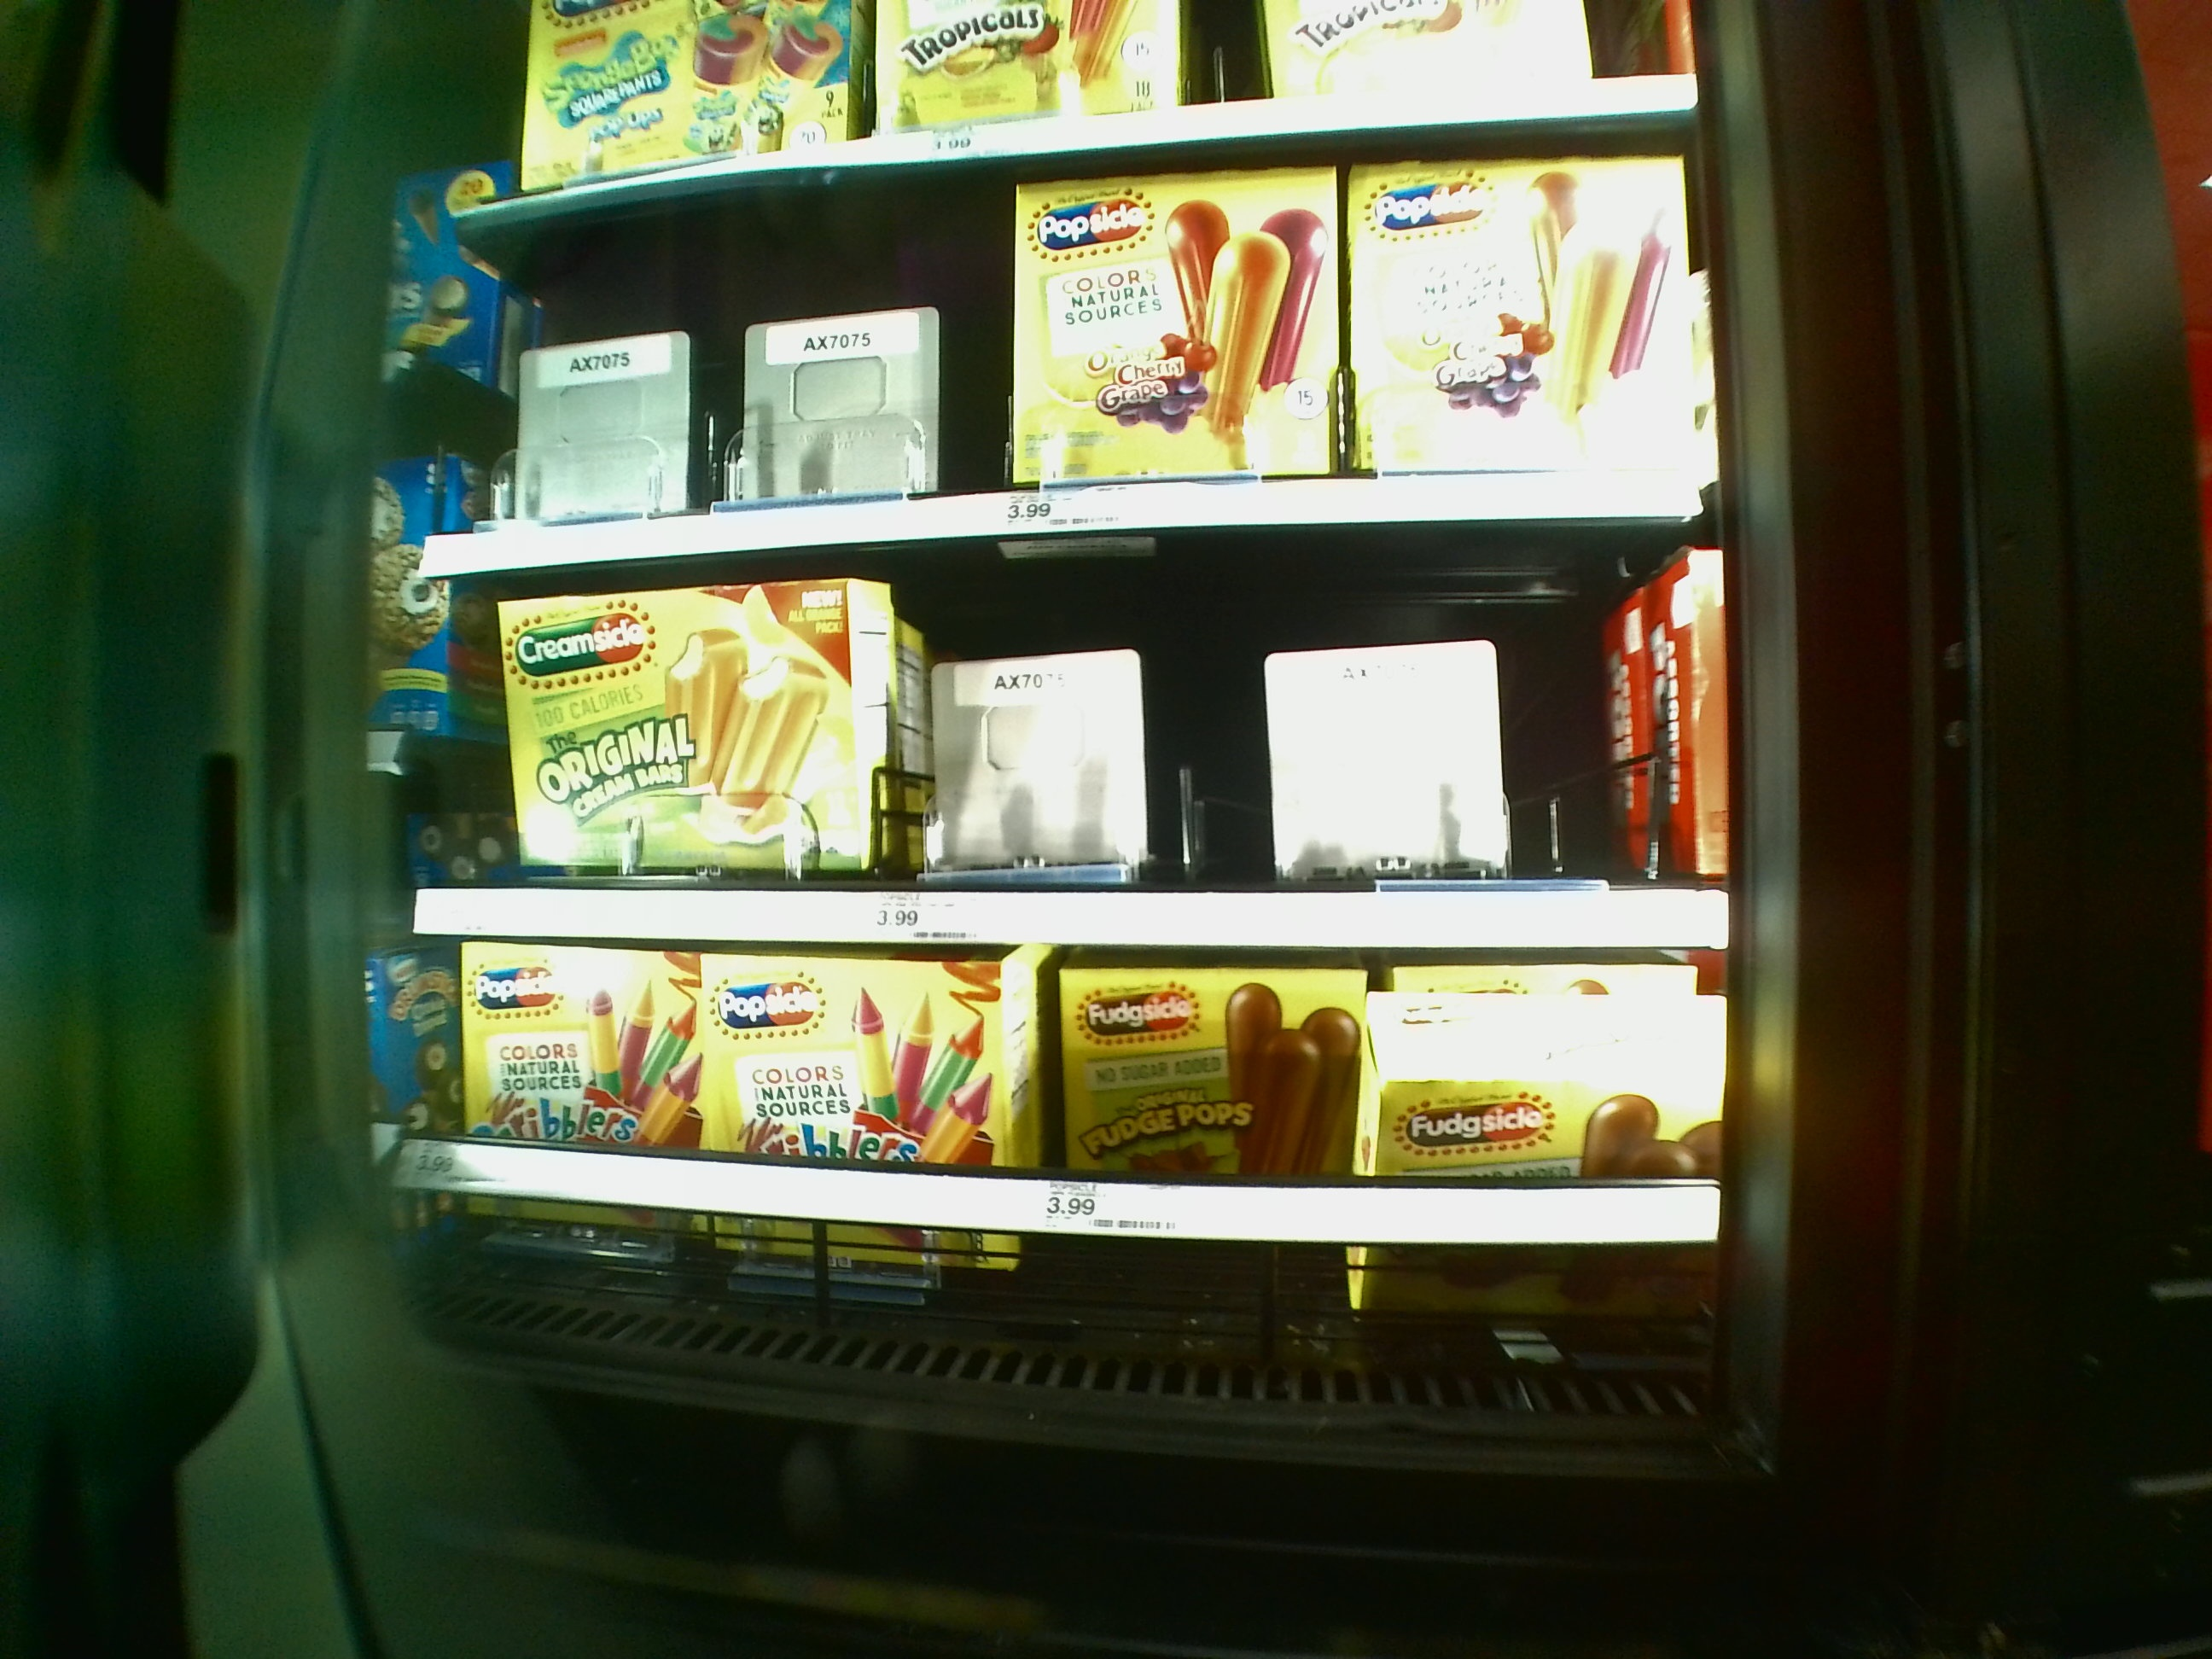shelf: (437, 941, 1737, 1394), (430, 545, 1723, 955), (439, 141, 1705, 538)
